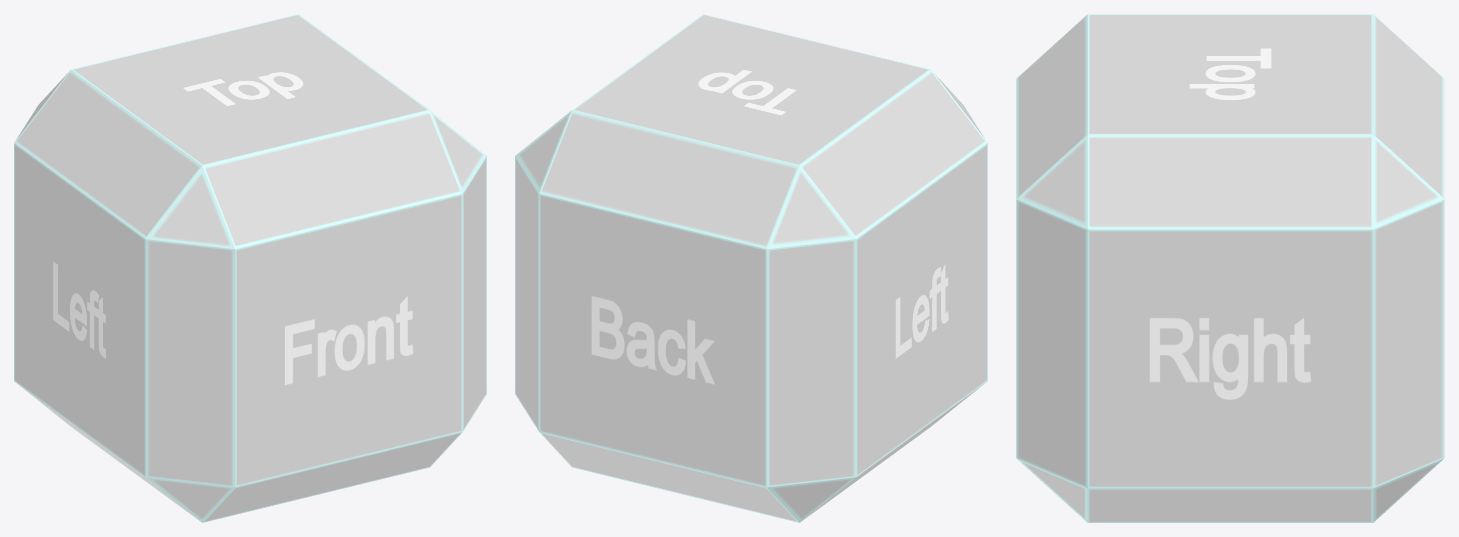
The model's file is viewCube.glb.
3 renders of one model, left to right at view 1: azimuth 30°, elevation 25°; view 2: azimuth 150°, elevation 25°; view 3: azimuth 270°, elevation 25°, orthographic. The views are drawn at different scales.
Parts seen in each view (by area): view 1: viewCube; view 2: viewCube; view 3: viewCube.
Part boxes in pixels (<box>): viewCube: <box>14,14,486,522</box>; viewCube: <box>515,14,987,522</box>; viewCube: <box>1016,14,1444,522</box>.
Bounding box in the file's own units: 3 × 3 × 3.
1 material, 1 textured.
